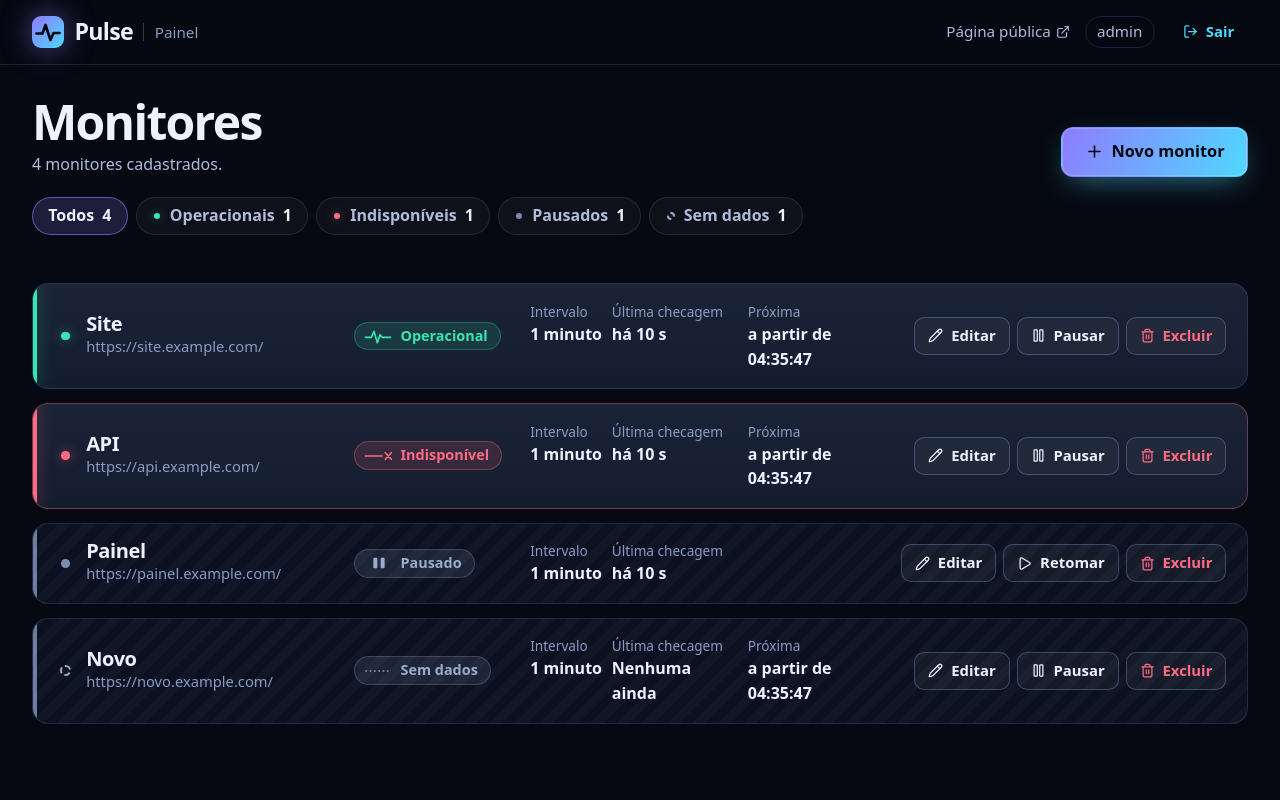
Test: pausar, retomar e excluir › pausa e retoma com POST + X-CSRF-Token e mostra a confirmação em texto
Expected: the element "Site" is shown, [32, 283, 1248, 389]
Click the button with aria-label "Pausar Site" at (1068, 336), box [1017, 317, 1118, 355]
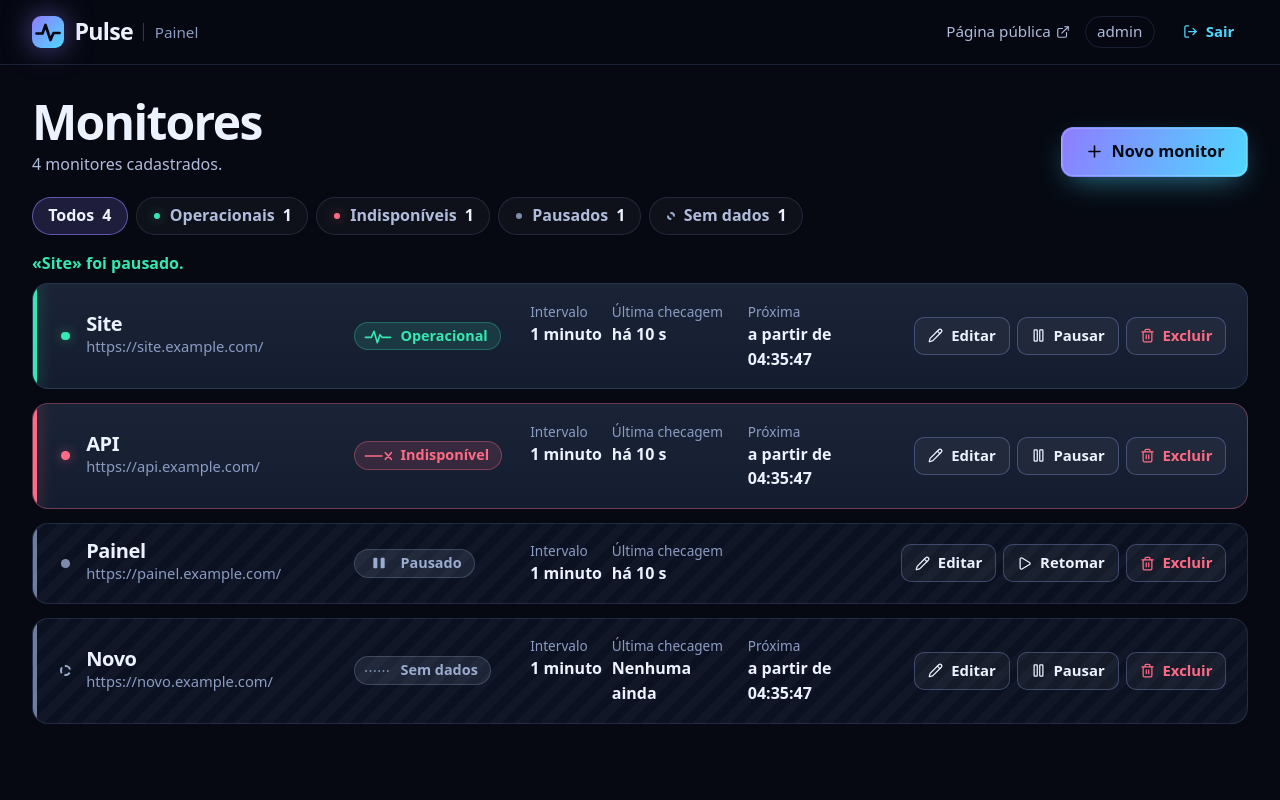
Expected: the text "«Site» foi pausado." is shown, [32, 252, 184, 274]
Click the button with aria-label "Retomar Painel" at (1061, 563), box [1003, 544, 1118, 582]
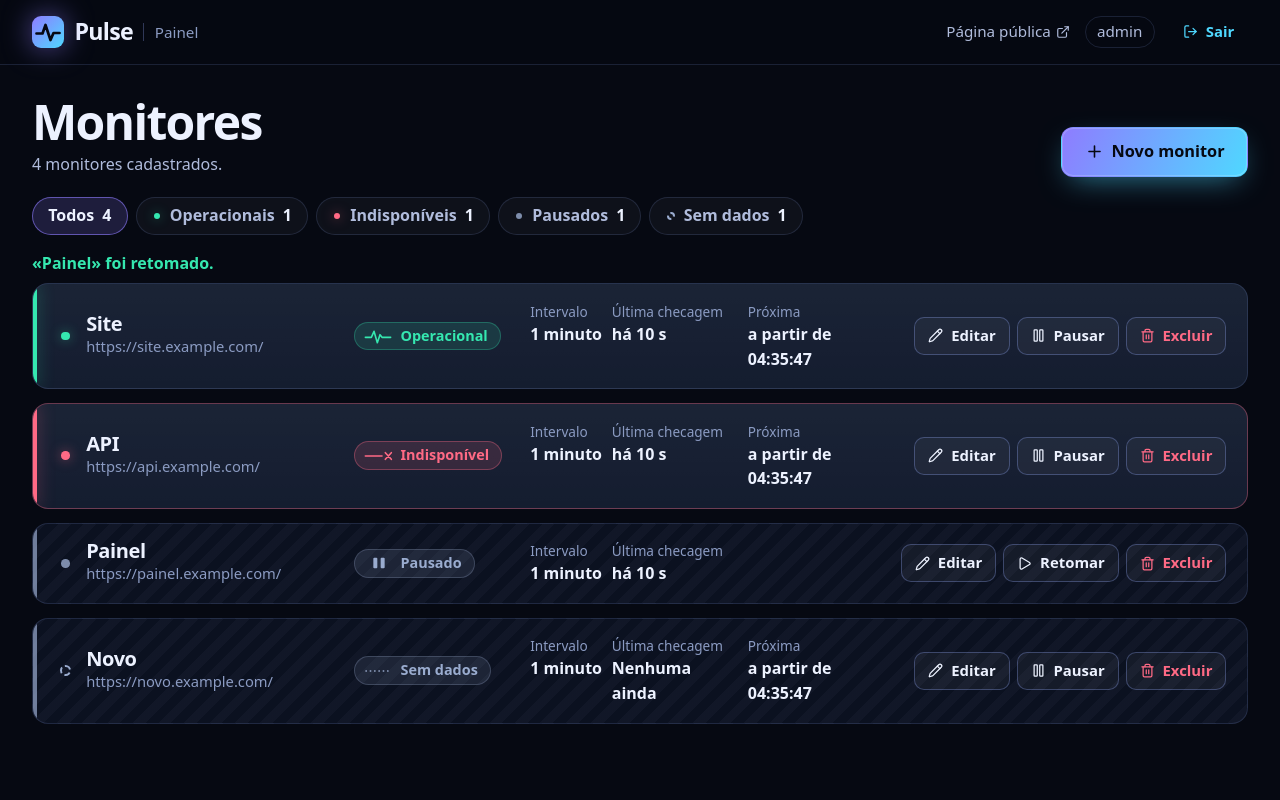
Expected: the text "«Painel» foi retomado." is shown, [32, 252, 214, 274]
